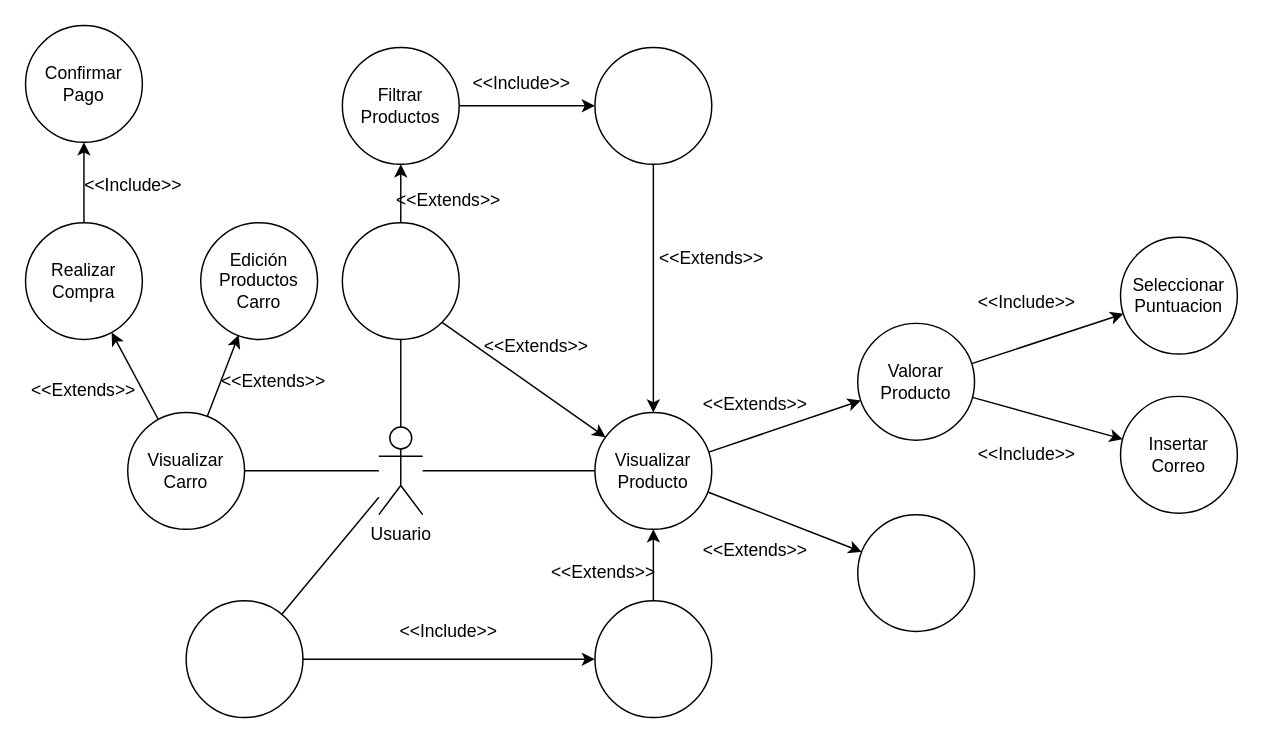
This 1263x743 diagram has some shape labels left out. Each missing label, with the centre of its shape:
Añadir al Carro: point 915,572
Mostrar Resultado Busqueda: point 652,658
Realizar Busqueda: point 244,658
Visualizar Catalogo: point 400,280
Visualizar Catalogo Filtrado: point 652,105
